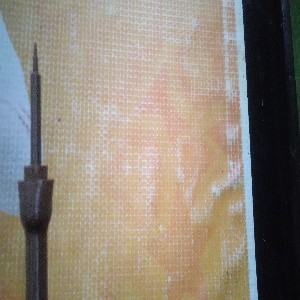solder: (17, 41, 55, 300)
